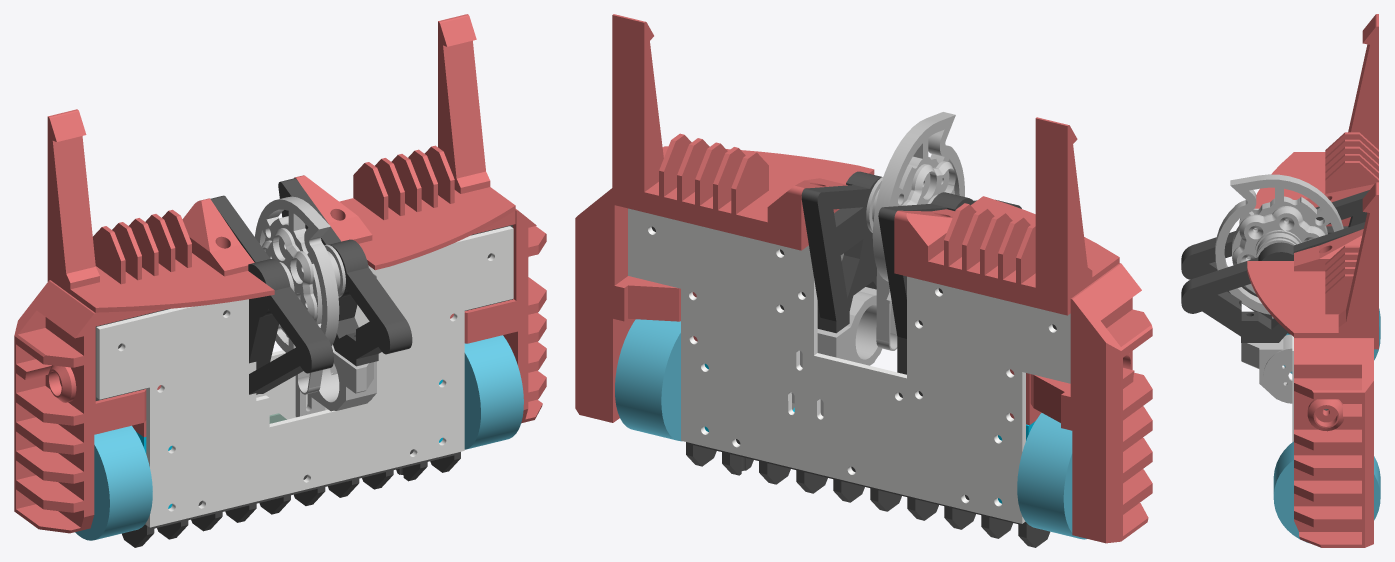
The model's file is Driler V3.glb.
The picture shows the model from 3 angles, left to right: view 1: azimuth 30°, elevation 25°; view 2: azimuth 150°, elevation 25°; view 3: azimuth 270°, elevation 25°; orthographic projection. The views are drawn at different scales.
Visible parts, largest first — view 1: g topo:1, g escudo_frente_esq, g escudo_frente_dir, g lateral_esq_v2, g braco_disco (1), g lateral_dir_v2, g braco_disco (1) (1) (1) (4) (2), g Body138, g Body174, g Dsico_arma_1 (1), g protecao_traseira, g Suporte_motor (+2 smaller); view 2: g topo, g escudo_frente_dir, g lateral_esq_v2, g escudo_frente_esq, g lateral_dir_v2, g braco_disco (1) (1) (1) (4) (2), g Body174, g Body138, g protecao_traseira, g Dsico_arma_1 (1), g braco_disco (1), g Suporte_motor (+2 smaller); view 3: g lateral_dir_v2, g escudo_frente_dir, g escudo_frente_esq, g braco_disco (1) (1) (1) (4) (2), g Dsico_arma_1 (1), g suporte_disco_rolamento, g braco_disco (1), g Suporte_motor, g Body174, g Correia.
Part boxes in pixels (left/top/right/bottom): g topo:1: left=96, top=226, right=513, bottom=527; g escudo_frente_esq: left=47, top=109, right=274, bottom=326; g escudo_frente_dir: left=294, top=14, right=515, bottom=270; g lateral_esq_v2: left=14, top=280, right=161, bottom=533; g braco_disco (1): left=210, top=195, right=333, bottom=394; g lateral_dir_v2: left=450, top=209, right=546, bottom=423; g braco_disco (1) (1) (1) (4) (2): left=278, top=178, right=412, bottom=366; g Body138: left=75, top=425, right=152, bottom=540; g Body174: left=464, top=335, right=523, bottom=449; g Dsico_arma_1 (1): left=254, top=196, right=339, bottom=352; g protecao_traseira: left=122, top=452, right=460, bottom=547; g Suporte_motor: left=295, top=344, right=376, bottom=417; g topo: left=628, top=208, right=1070, bottom=523; g escudo_frente_dir: left=612, top=14, right=874, bottom=250; g lateral_esq_v2: left=1010, top=263, right=1152, bottom=543; g escudo_frente_esq: left=894, top=117, right=1119, bottom=315; g lateral_dir_v2: left=575, top=188, right=697, bottom=422; g braco_disco (1) (1) (1) (4) (2): left=780, top=171, right=881, bottom=333; g Body174: left=615, top=319, right=682, bottom=441; g Body138: left=1017, top=413, right=1086, bottom=539; g protecao_traseira: left=686, top=442, right=1050, bottom=547; g Dsico_arma_1 (1): left=872, top=112, right=964, bottom=301; g braco_disco (1): left=878, top=192, right=1021, bottom=397; g Suporte_motor: left=791, top=287, right=891, bottom=416; g lateral_dir_v2: left=1294, top=338, right=1373, bottom=547; g escudo_frente_dir: left=1247, top=182, right=1378, bottom=349; g escudo_frente_esq: left=1254, top=14, right=1378, bottom=226; g braco_disco (1) (1) (1) (4) (2): left=1181, top=222, right=1365, bottom=342; g Dsico_arma_1 (1): left=1215, top=174, right=1343, bottom=314; g suporte_disco_rolamento: left=1232, top=206, right=1325, bottom=264; g braco_disco (1): left=1181, top=190, right=1369, bottom=334; g Suporte_motor: left=1241, top=334, right=1292, bottom=403; g Body174: left=1273, top=441, right=1380, bottom=542; g Correia: left=1256, top=233, right=1299, bottom=318.
Size of the model in its own units: 34.05 by 27.1 by 13.22.
